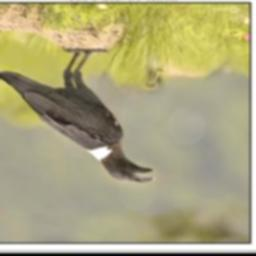Crow: (0, 47, 158, 185)
